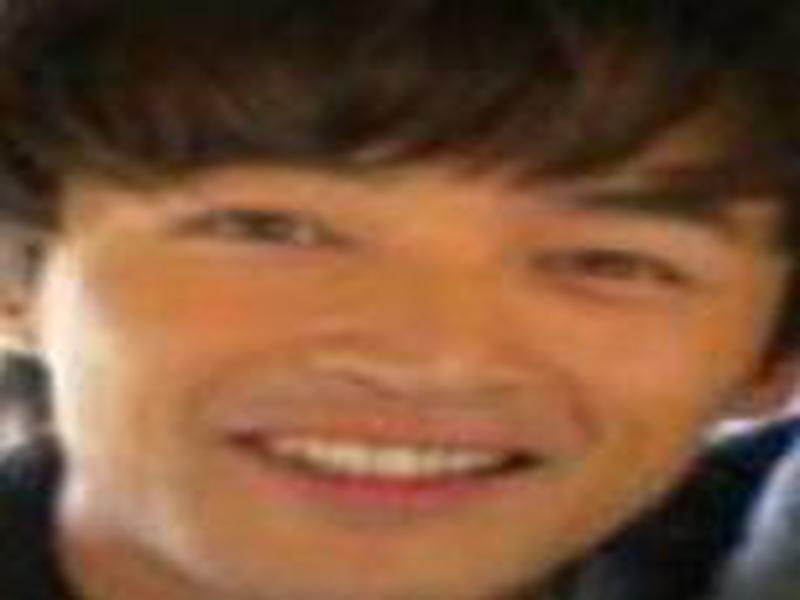without_mask: (44, 85, 766, 597)
